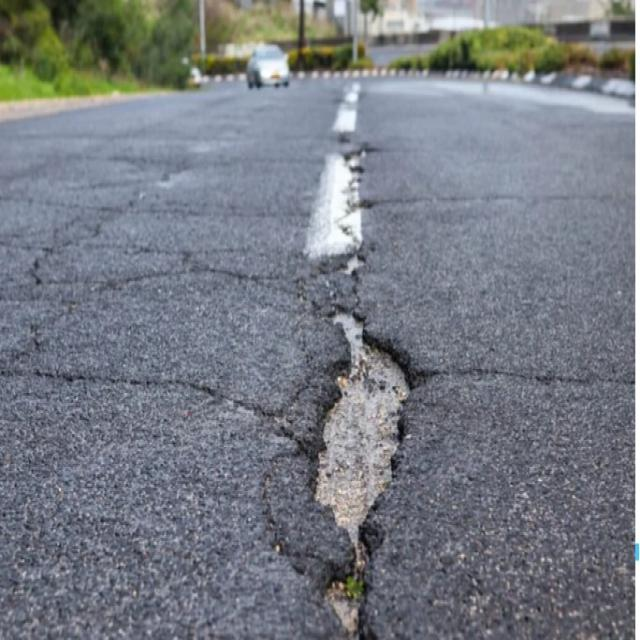major_pothole: (312, 294, 416, 628)
medium_pothole: (344, 139, 370, 175), (341, 247, 365, 272), (346, 196, 370, 213)
